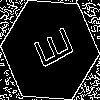E: (25, 25, 75, 75)
